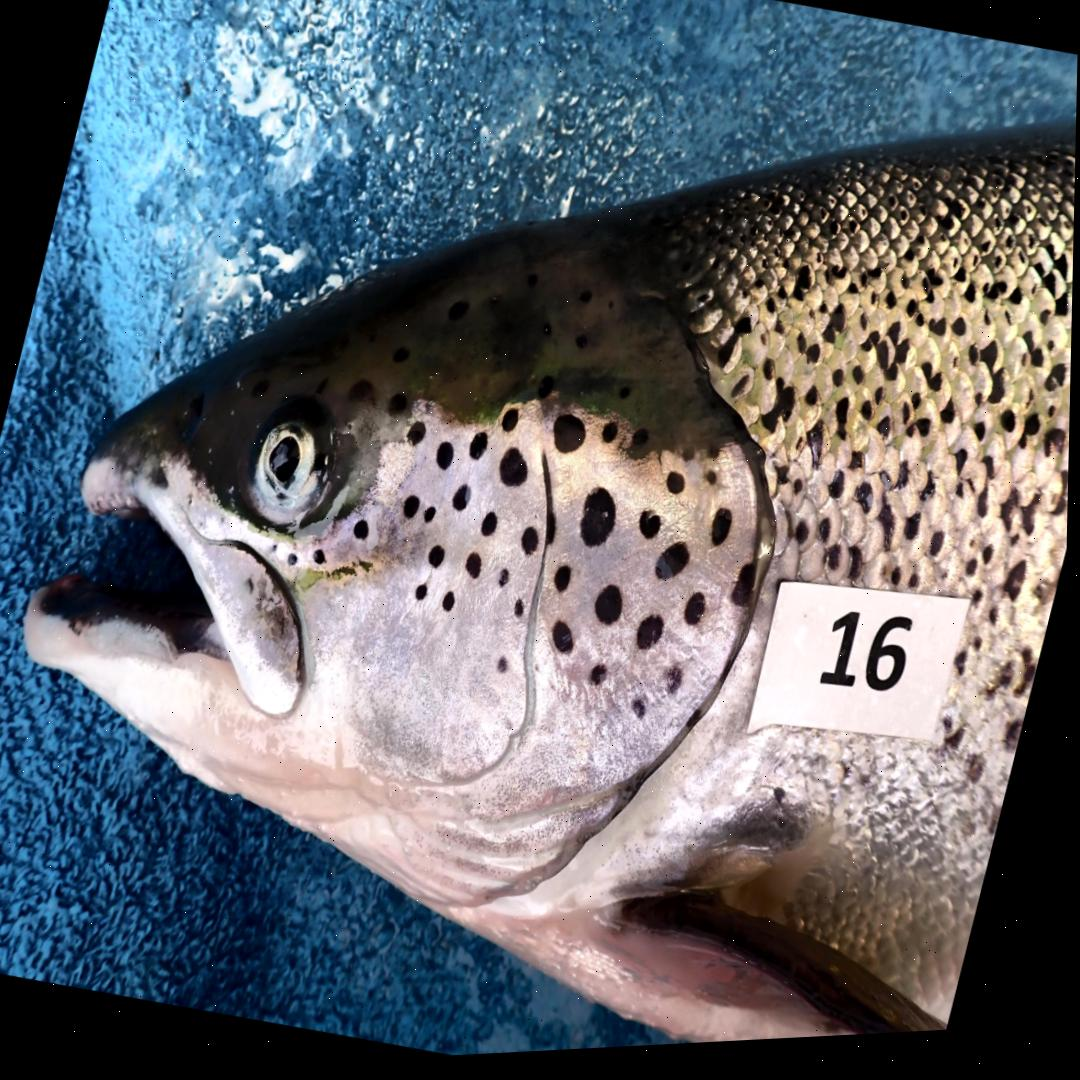spot: (582, 495, 618, 553), (554, 419, 588, 460), (658, 549, 692, 587), (597, 591, 625, 632), (501, 453, 529, 493), (733, 571, 758, 614), (639, 622, 667, 657), (713, 516, 735, 553), (687, 599, 708, 633), (554, 628, 576, 659), (641, 519, 663, 546), (438, 446, 456, 475), (471, 437, 489, 465), (454, 489, 472, 516), (523, 532, 540, 560), (556, 571, 574, 597), (409, 425, 428, 449), (468, 556, 484, 583), (669, 673, 685, 700), (668, 479, 687, 501), (430, 549, 447, 573), (603, 427, 620, 450), (503, 414, 520, 437), (483, 518, 500, 541), (405, 500, 422, 523), (592, 670, 609, 692), (356, 523, 372, 544), (635, 704, 650, 725), (690, 717, 705, 738), (444, 596, 458, 616), (634, 435, 650, 452), (417, 587, 430, 605), (425, 510, 438, 527), (500, 661, 511, 679), (501, 574, 512, 591), (316, 553, 328, 568), (708, 478, 720, 493), (516, 605, 527, 621), (684, 456, 696, 469), (289, 556, 300, 568)
